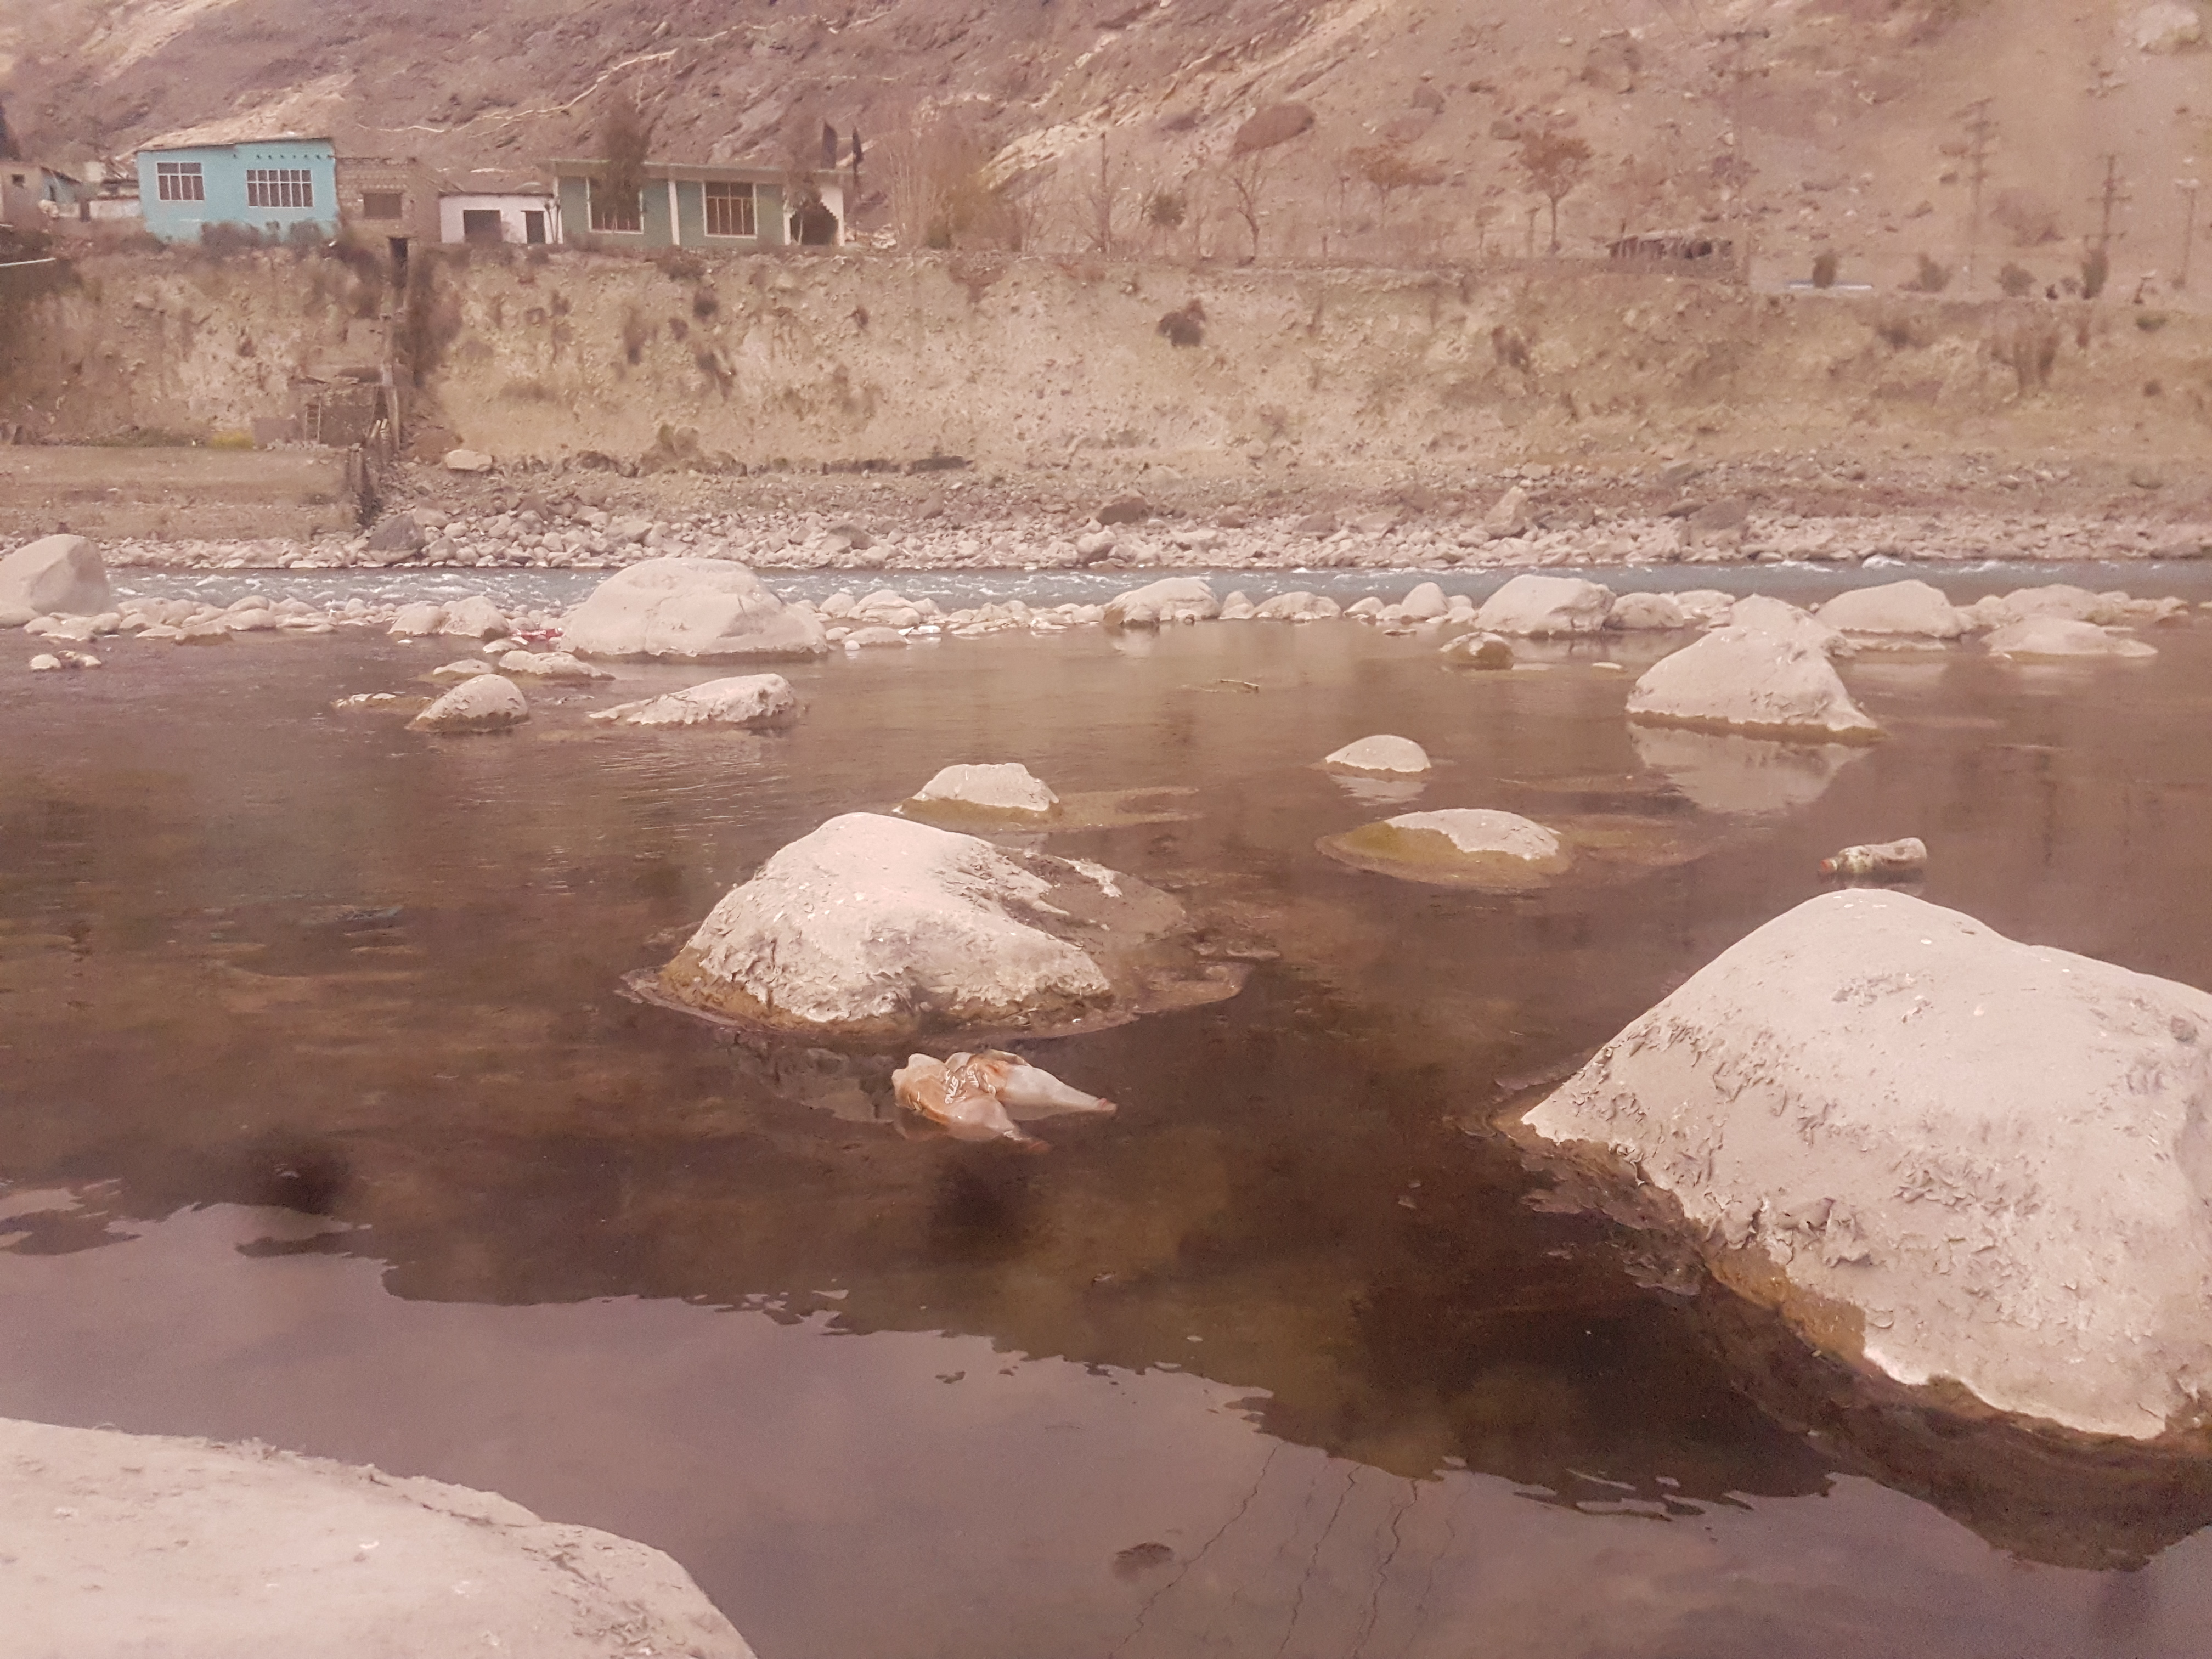Plastic Bottle: (944, 1049, 1116, 1114), (892, 1053, 1019, 1138), (1820, 836, 1928, 871), (516, 627, 563, 638)
